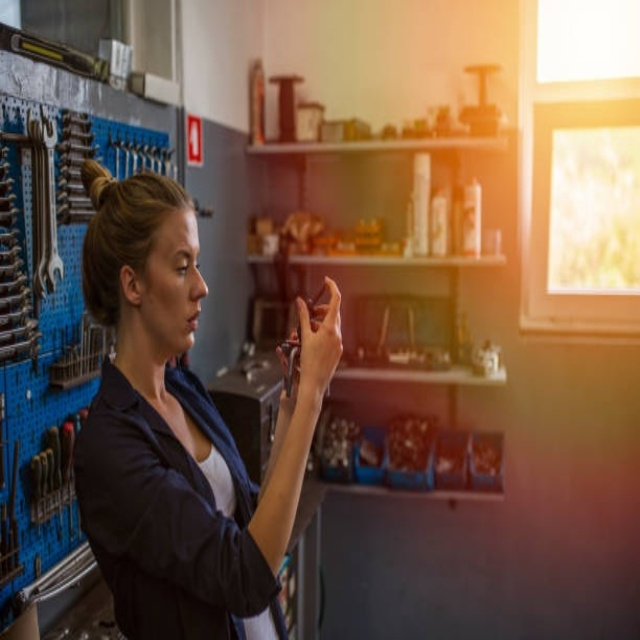Sin_gafas: (145, 232, 201, 282)
Sin_guantes: (282, 273, 344, 402)
Sin_mascara: (168, 293, 204, 351)
